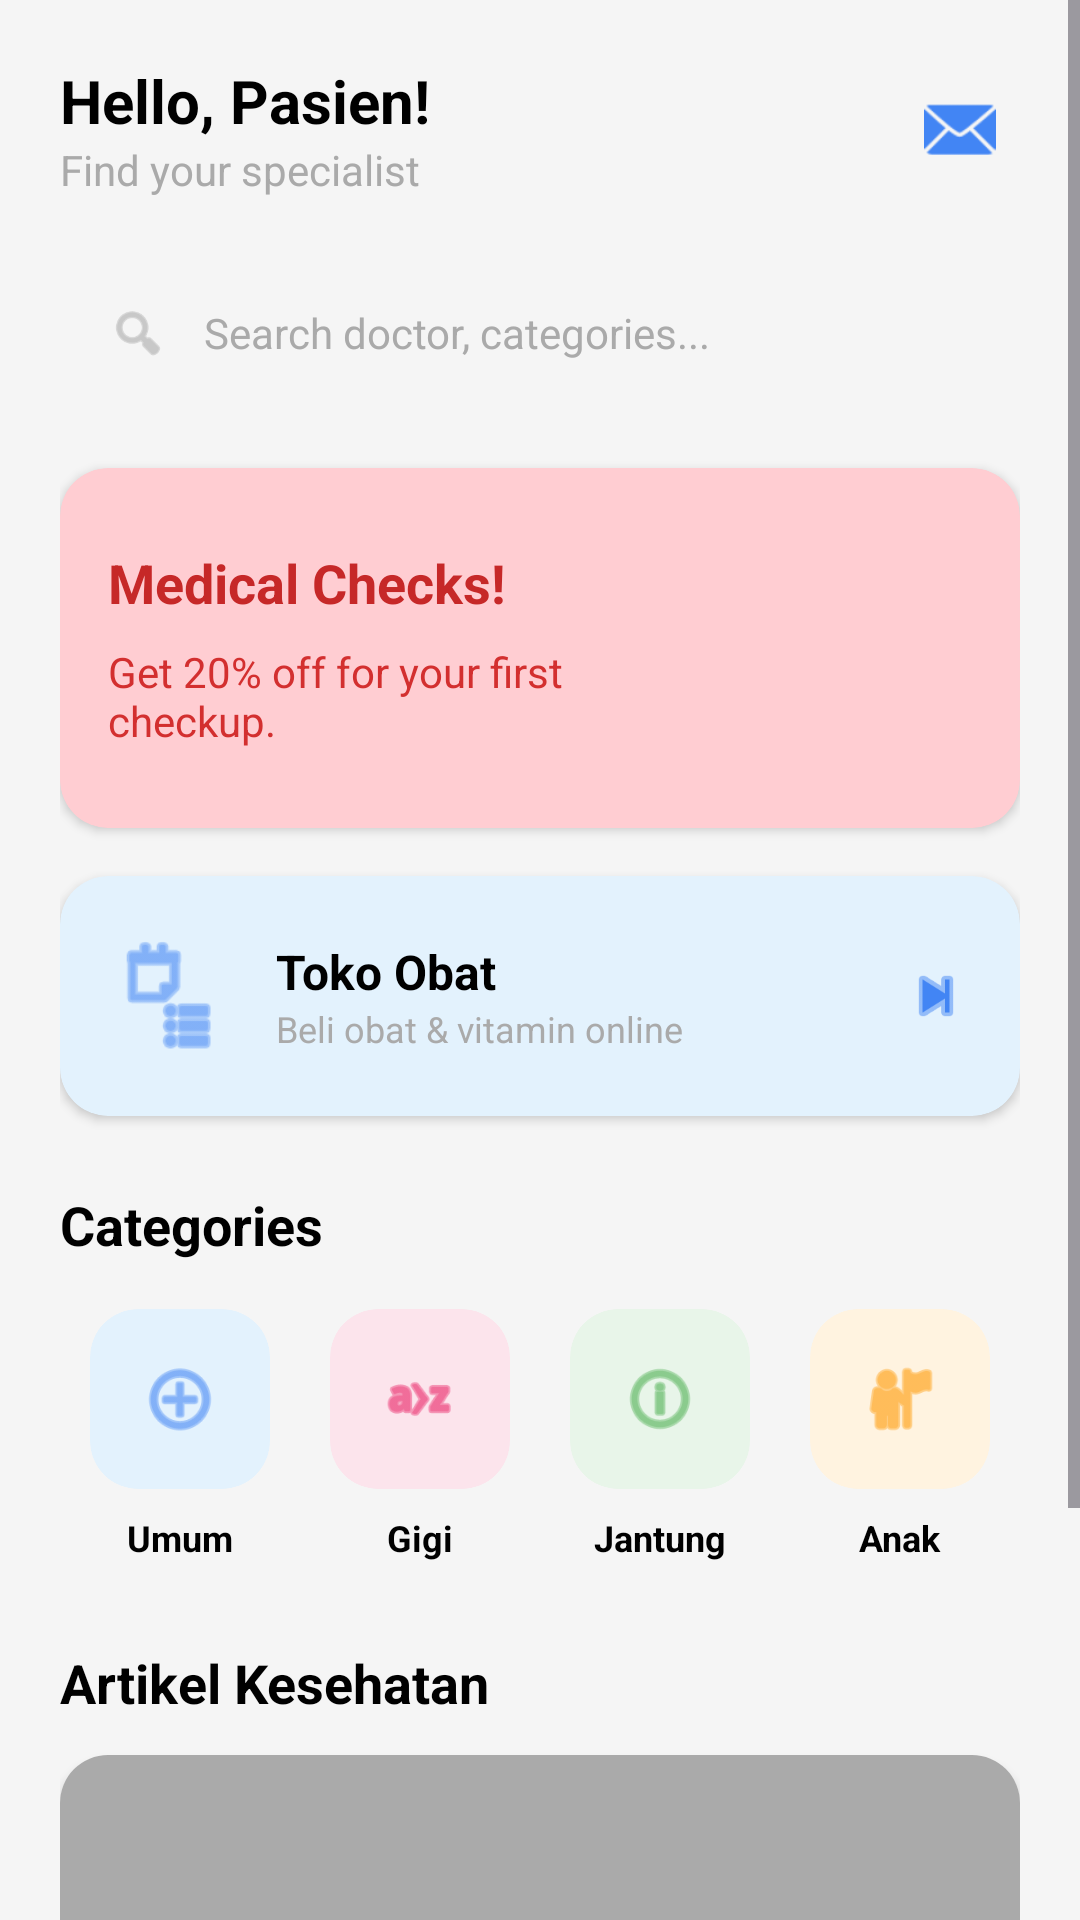

Screen size 1080px x 1920px. Icon name, then its center in pixels as (x,y):
add: (180,1399)
agenda: (169,995)
email: (960,129)
info details: (660,1399)
myplaces: (900,1399)
next: (936,996)
sort alphabetically: (419,1399)
